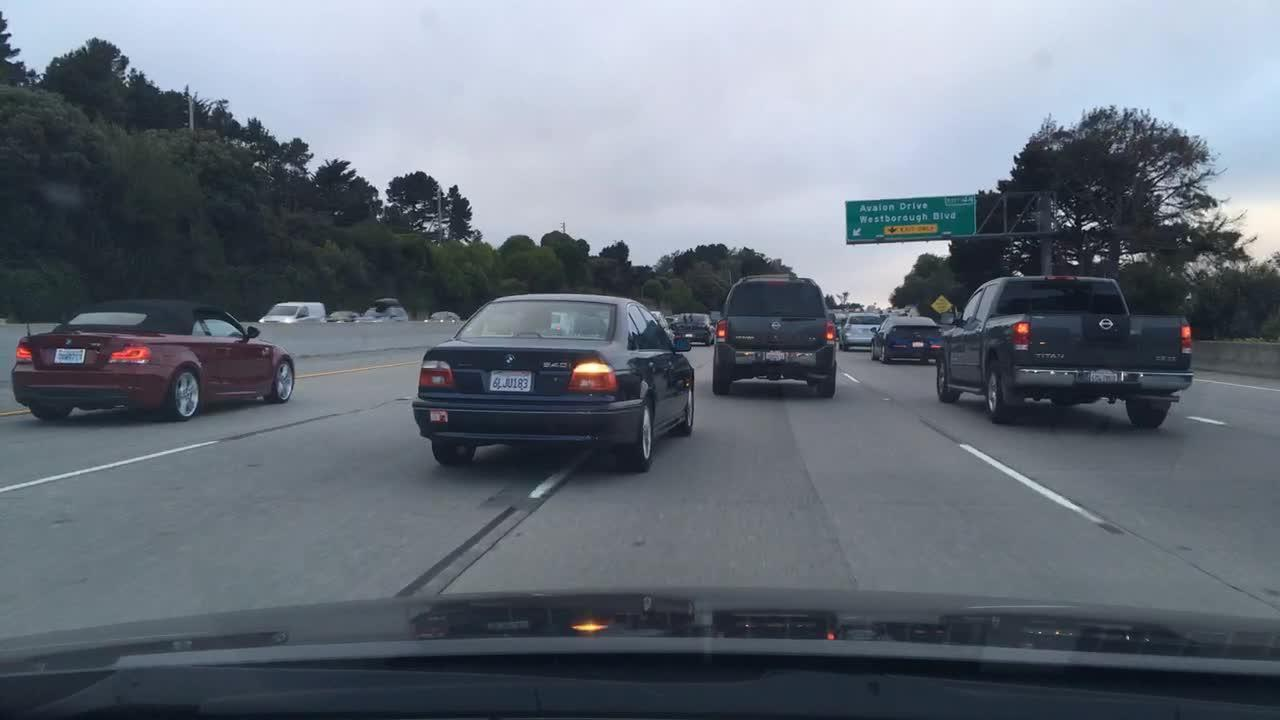Nissan: (1097, 315, 1118, 332), (770, 319, 782, 332)
bmw: (502, 353, 519, 368), (63, 337, 74, 347)
